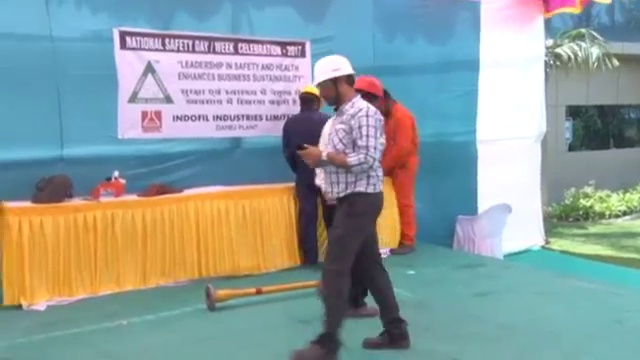helmet: (310, 54, 355, 86), (352, 74, 385, 97), (299, 83, 323, 98)
helmet_off: (380, 90, 399, 117)
helmet_on: (309, 55, 354, 109), (353, 72, 385, 113), (298, 82, 322, 115)
person: (291, 54, 411, 360), (281, 81, 336, 267), (380, 91, 420, 257)
